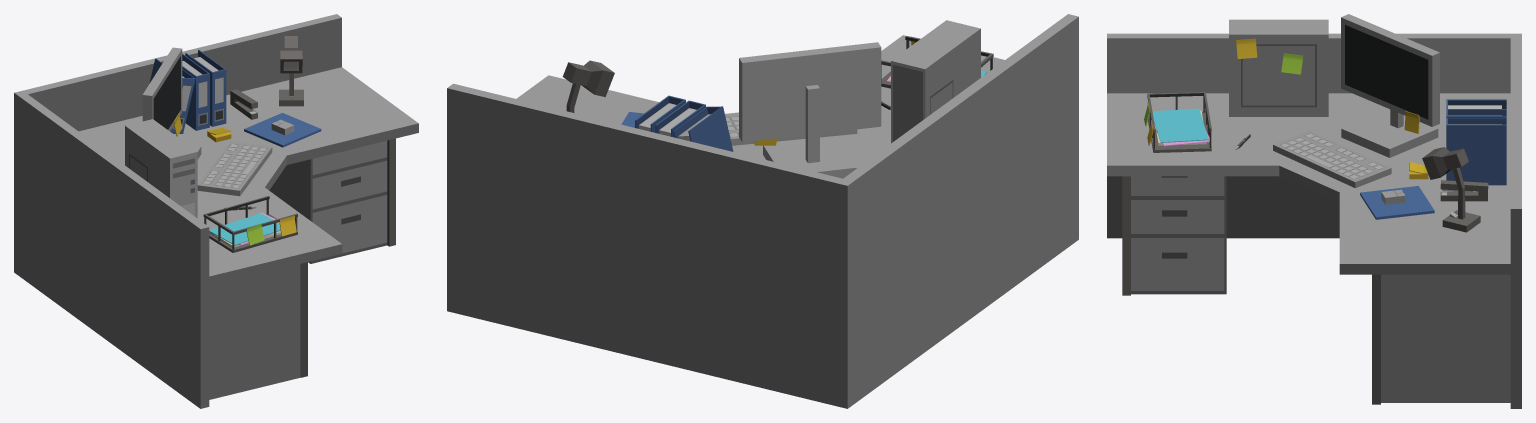
The model's file is SO_DeskPreset_04.fbx.
The picture shows the model from 3 angles, left to right: view 1: azimuth 30°, elevation 25°; view 2: azimuth 150°, elevation 25°; view 3: azimuth 270°, elevation 25°; orthographic projection. The views are drawn at different scales.
Parts seen in each view (by area): view 1: SO_DeskPreset_04; view 2: SO_DeskPreset_04; view 3: SO_DeskPreset_04.
Boxes of the visible parts, x1,y1,x2,y2 form: SO_DeskPreset_04: (14,14,418,408); SO_DeskPreset_04: (447,14,1078,408); SO_DeskPreset_04: (1107,14,1521,408).
Bounding box in the file's own units: 4.08 × 2.69 × 4.08.
